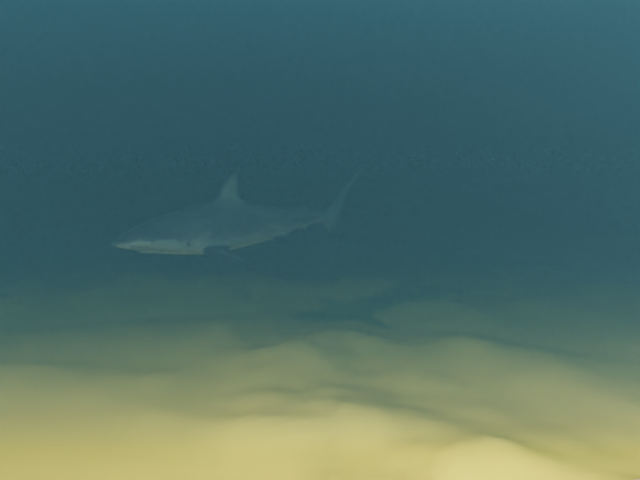Carribean Shark.001: (111, 166, 366, 267)
